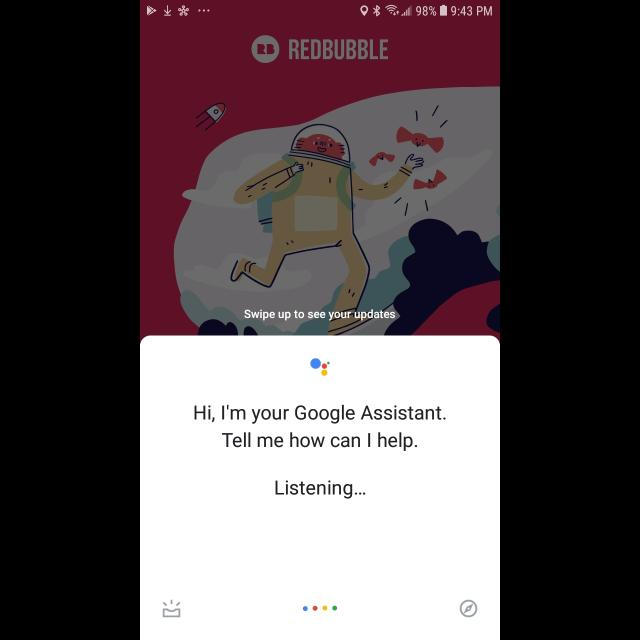icon: (460, 599, 478, 617)
image: (162, 598, 182, 618), (310, 358, 330, 376)
pageindicator: (302, 605, 338, 611)
panel: (140, 336, 500, 640)
text: (194, 404, 446, 452), (244, 309, 396, 321), (275, 480, 365, 500)
uppertaskbar: (140, 1, 500, 17)
